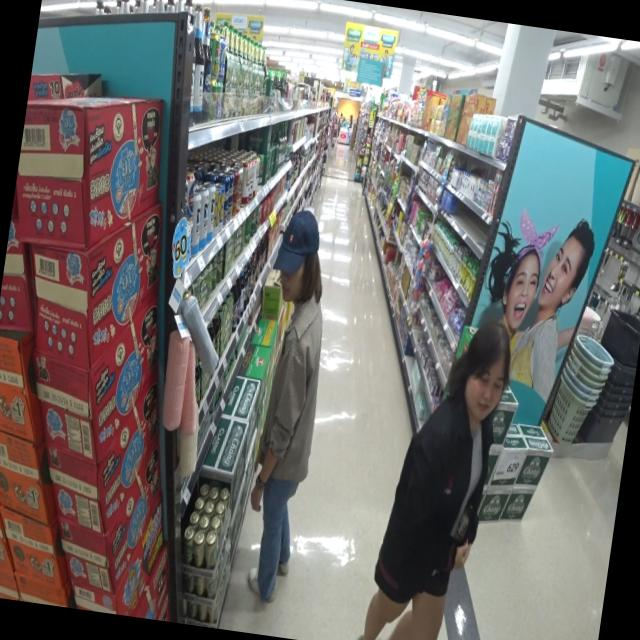shoplifting: (373, 311, 511, 640)
